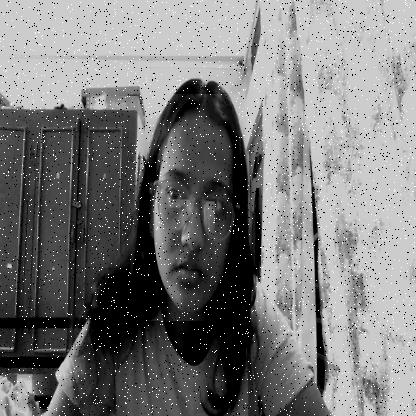Normal: (148, 94, 241, 321)
